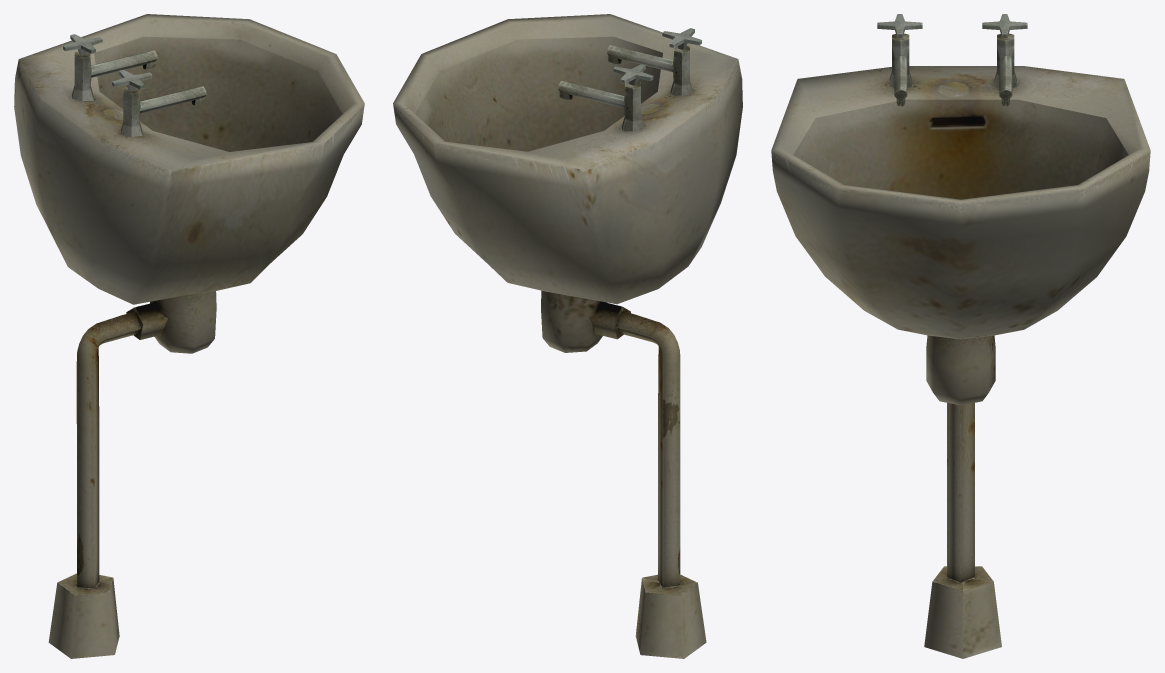
Rendered from furniture_handwash_basin.dae.
3 views of the same model, side by side, from view 1: azimuth 30°, elevation 25°; view 2: azimuth 150°, elevation 25°; view 3: azimuth 270°, elevation 25° (orthographic). The views are drawn at different scales.
Visible parts, largest first — view 1: polySurface1; view 2: polySurface1; view 3: polySurface1.
Part boxes in pixels (x1,y1,x2,y2): polySurface1: (14, 14, 364, 658); polySurface1: (393, 14, 742, 658); polySurface1: (771, 33, 1150, 658).
Size of what is drawn, in the model's own units: 0.607 by 1.23 by 0.6748.
